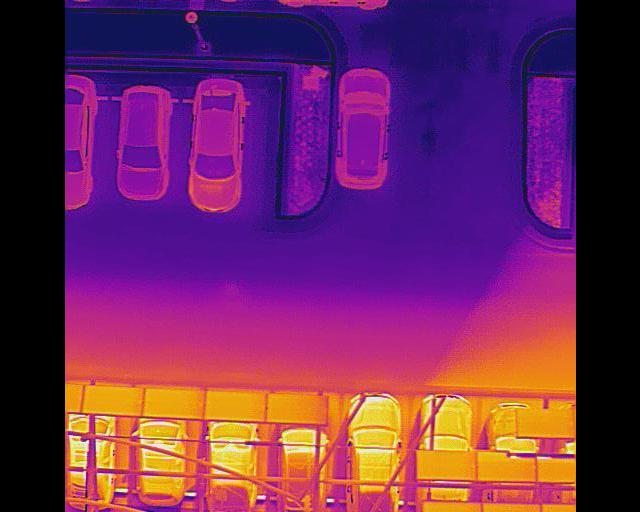No-Anomaly: (263, 394, 326, 425), (416, 450, 476, 481), (203, 391, 266, 420), (141, 390, 204, 419), (515, 409, 573, 439), (81, 387, 142, 415), (478, 459, 535, 483), (422, 502, 481, 512), (480, 504, 541, 512)
